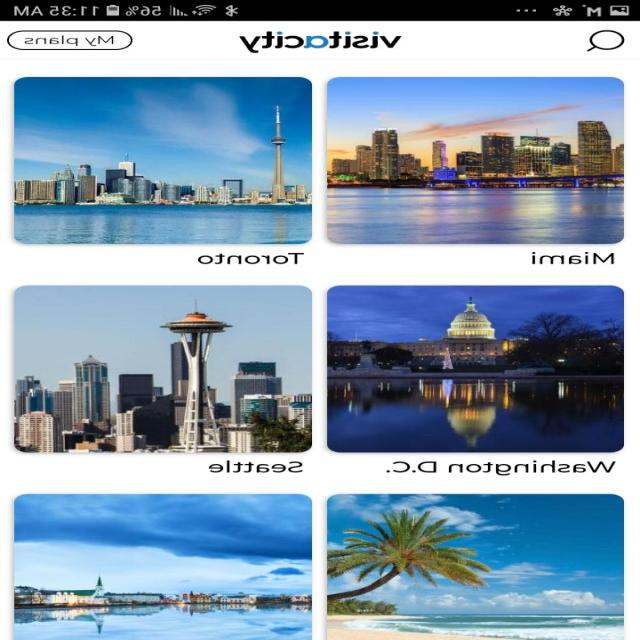Icon: (586, 29, 625, 52)
Image: (15, 285, 313, 452), (327, 285, 625, 452), (15, 77, 313, 244), (327, 77, 625, 244), (14, 494, 313, 640), (327, 494, 625, 640), (239, 31, 402, 53)
Text: (386, 460, 616, 475), (198, 252, 305, 264), (209, 460, 304, 472), (532, 252, 616, 264)
TextButton: (7, 30, 133, 50)
